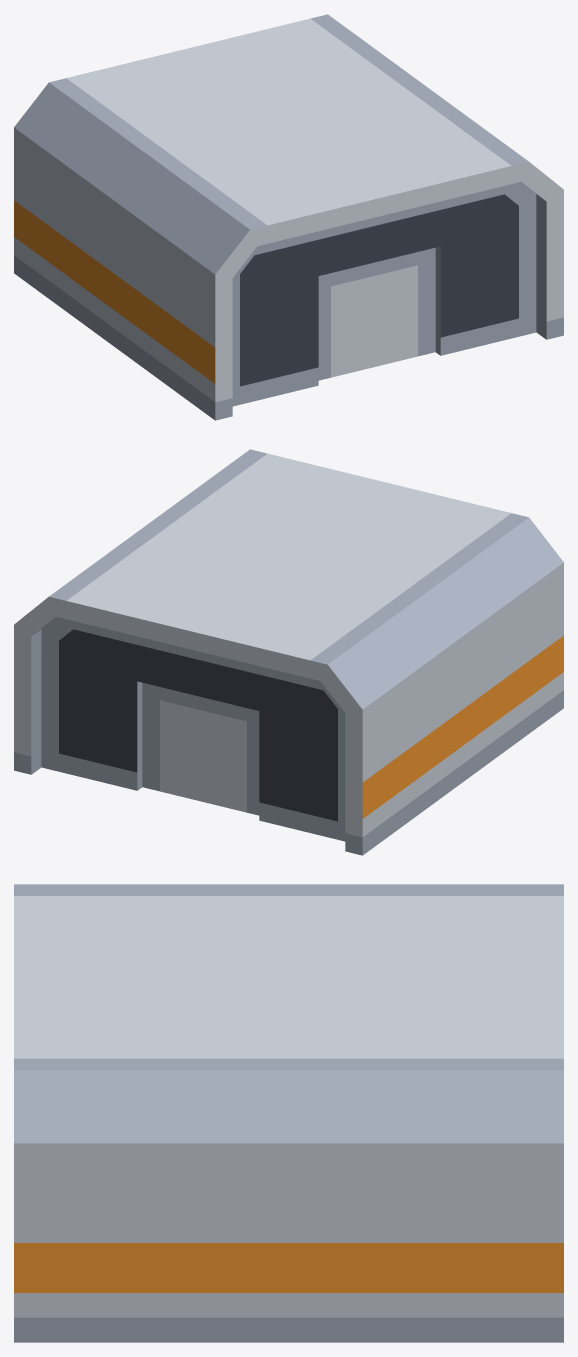
Rendered from hangar_smallA.obj.
3 views of the same model, one above another, from view 1: azimuth 30°, elevation 25°; view 2: azimuth 150°, elevation 25°; view 3: azimuth 270°, elevation 25° (orthographic). The views are drawn at different scales.
Parts seen in each view (by area): view 1: hangar_smallA, gate; view 2: hangar_smallA, gate; view 3: hangar_smallA.
Boxes of the visible parts, left/top/right/bottom form: hangar_smallA: left=14, top=14, right=563, bottom=420; gate: left=232, top=182, right=536, bottom=406; hangar_smallA: left=14, top=449, right=563, bottom=855; gate: left=41, top=617, right=345, bottom=841; hangar_smallA: left=14, top=884, right=563, bottom=1342.
Size of the model in its own units: 2 by 1 by 2.
